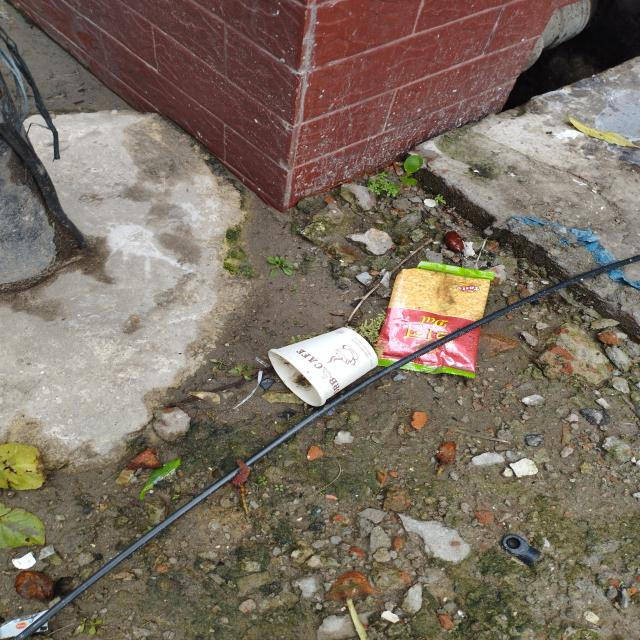paper: (268, 326, 382, 408)
